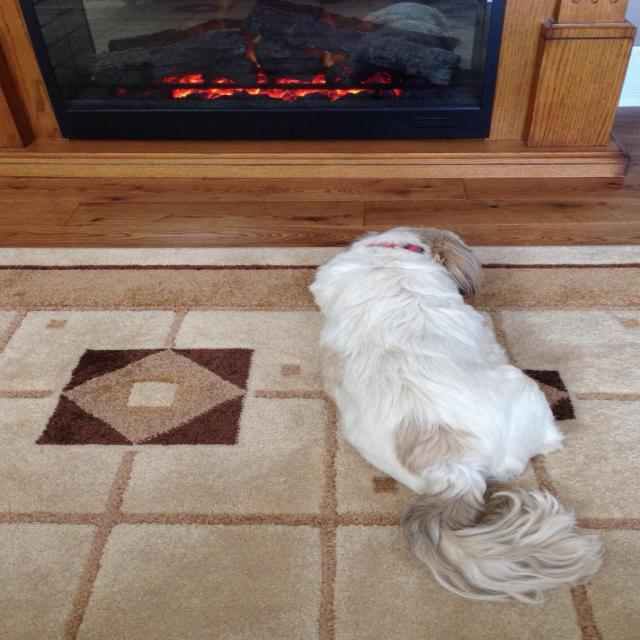Fire: (152, 56, 420, 103)
